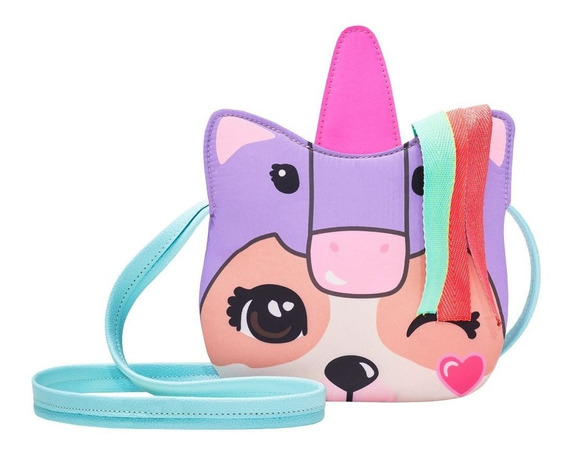cartera: (199, 25, 537, 403)
